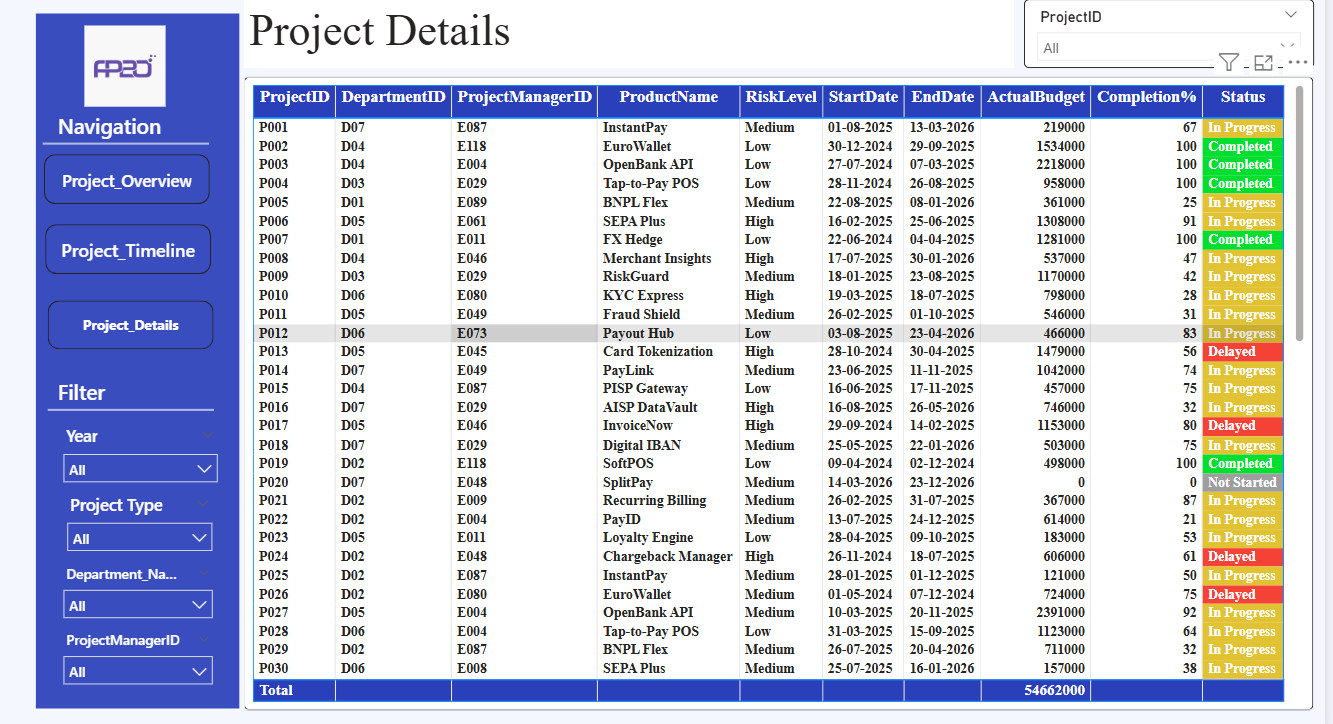

What the dashboard file says about the page in this screenshot:
{"tool":"powerbi","page":{"name":"Project_Details","canvas":[1280,720],"ordinal":2},"visuals":[{"type":"slicer","fields":{"Values":["Projects.ProjectID"]},"box":[989,10.4,279.6,66],"z":0},{"type":"tableEx","fields":{"Values":["Projects.ProjectID","Projects.DepartmentID","Projects.ProjectManagerID","Projects.ProductName","Projects.RiskLevel","Projects.PlannedStartDate","Projects.PlannedEndDate","Sum(Projects.ActualBudget (EUR))","Projects.CompletionPercentage","Projects.Status"]},"box":[236.9,85.4,1031.7,611],"z":1000},{"type":"textbox","box":[236.9,10.4,743,66],"z":2000},{"type":"image","box":[0,31.4,243.7,88.1],"z":3000},{"type":"shape","box":[42.2,91.7,160.5,117],"z":4000},{"type":"shape","title":"Navigation","box":[56.7,119.4,179.8,61.5],"z":5000},{"type":"pageNavigator","box":[43.4,160.5,160.5,48.3],"z":6000},{"type":"pageNavigator","box":[44.6,228,160.5,48.3],"z":7000},{"type":"pageNavigator","box":[47.1,301.6,160.5,47.1],"z":8000},{"type":"shape","title":"Filter","box":[56.7,376.4,177.3,44.6],"z":9000},{"type":"shape","box":[47.1,348.7,160.5,117],"z":10000},{"type":"slicer","fields":{"Values":["Date Dim.Year"]},"box":[51.9,416.2,168.9,66.4],"z":11000},{"type":"slicer","fields":{"Values":["Projects.ProductName"]},"box":[55.5,482.6,160.5,68.8],"z":12000},{"type":"slicer","fields":{"Values":["Departments.Department_Name"]},"box":[52.3,550.8,164.1,64.4],"z":13000},{"type":"slicer","fields":{"Values":["Projects.ProjectManagerID"]},"box":[52.3,615.2,164.1,63.2],"z":14000}]}

Visuals, with their boxes on the page's 1280x720 design canvas (x1, y1, x2, y2). These are canvas units, not pixel positions in the 1333x724 screenshot, which may show the page scaled, cropped or inside an application window:
slicer - Projects.ProjectID: <box>989,10,1269,76</box>
tableEx - Projects.ProjectID x Projects.DepartmentID: <box>237,85,1269,696</box>
textbox: <box>237,10,980,76</box>
image: <box>0,31,244,120</box>
shape: <box>42,92,203,209</box>
"Navigation" shape: <box>57,119,236,181</box>
pageNavigator: <box>43,160,204,209</box>
pageNavigator: <box>45,228,205,276</box>
pageNavigator: <box>47,302,208,349</box>
"Filter" shape: <box>57,376,234,421</box>
shape: <box>47,349,208,466</box>
slicer - Date Dim.Year: <box>52,416,221,483</box>
slicer - Projects.ProductName: <box>56,483,216,551</box>
slicer - Departments.Department_Name: <box>52,551,216,615</box>
slicer - Projects.ProjectManagerID: <box>52,615,216,678</box>
